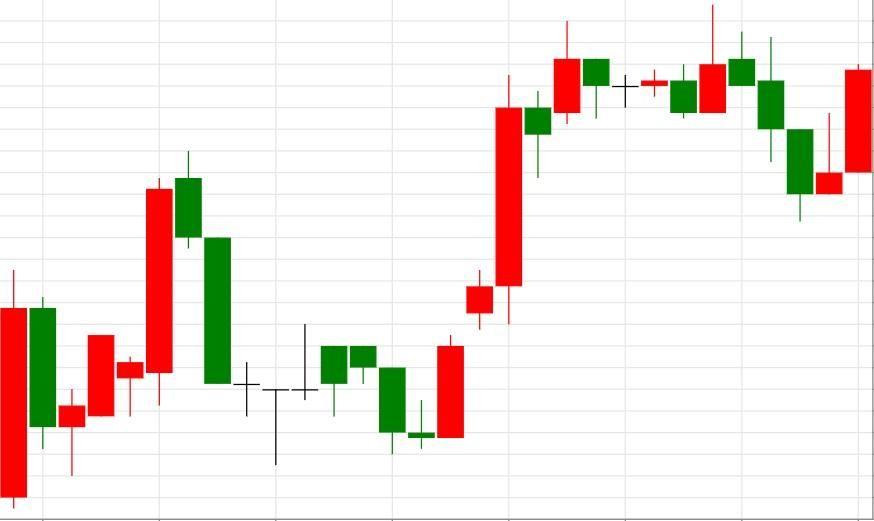inverse_hammer_rise: (728, 30, 844, 222)
morning_star_rise: (175, 150, 465, 465)
three_black_crows_fall: (669, 4, 814, 222)
